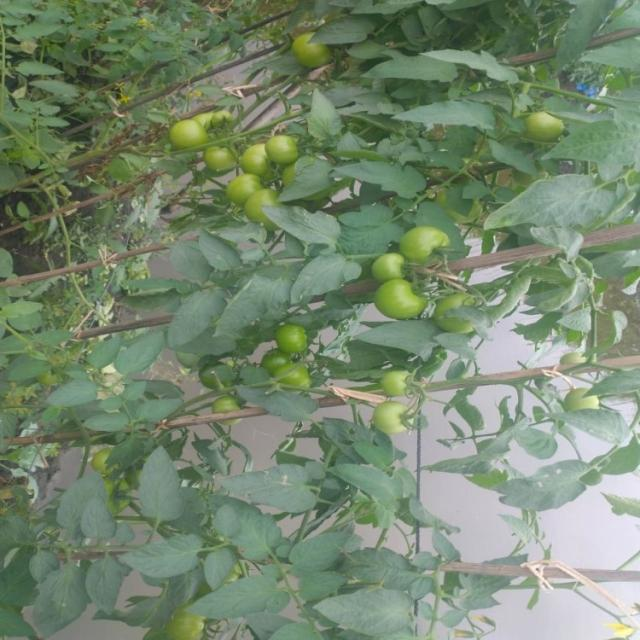tomato: (402, 222, 458, 277), (168, 111, 219, 158), (380, 282, 433, 323), (286, 24, 336, 67), (516, 106, 564, 150), (371, 401, 419, 438), (438, 294, 479, 336), (271, 360, 317, 396), (105, 471, 138, 517), (242, 184, 277, 224), (383, 365, 419, 399), (281, 321, 317, 355), (562, 389, 609, 414), (266, 135, 298, 171), (201, 135, 234, 169), (238, 140, 275, 168), (214, 394, 252, 419), (375, 253, 403, 284), (559, 346, 593, 371), (223, 167, 249, 194)
